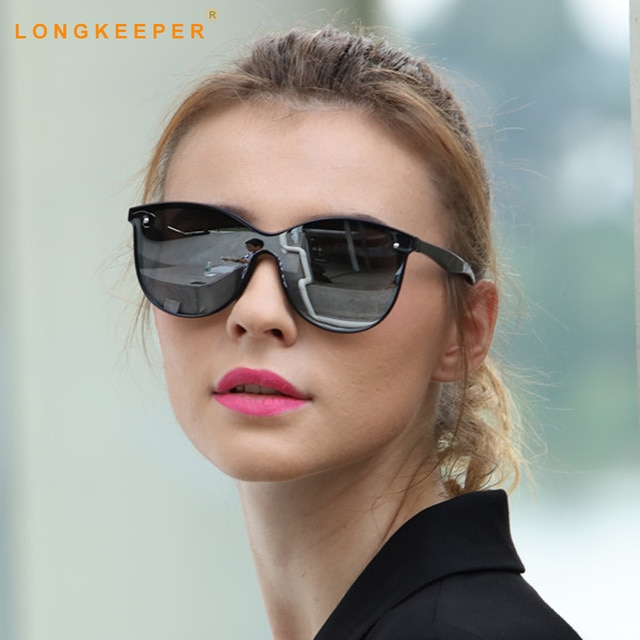sunglasses: (106, 198, 484, 327)
